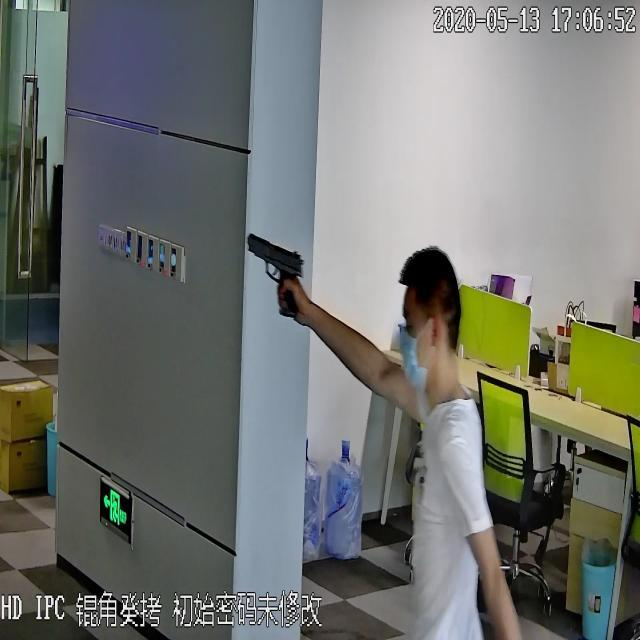gun: (245, 229, 305, 325)
